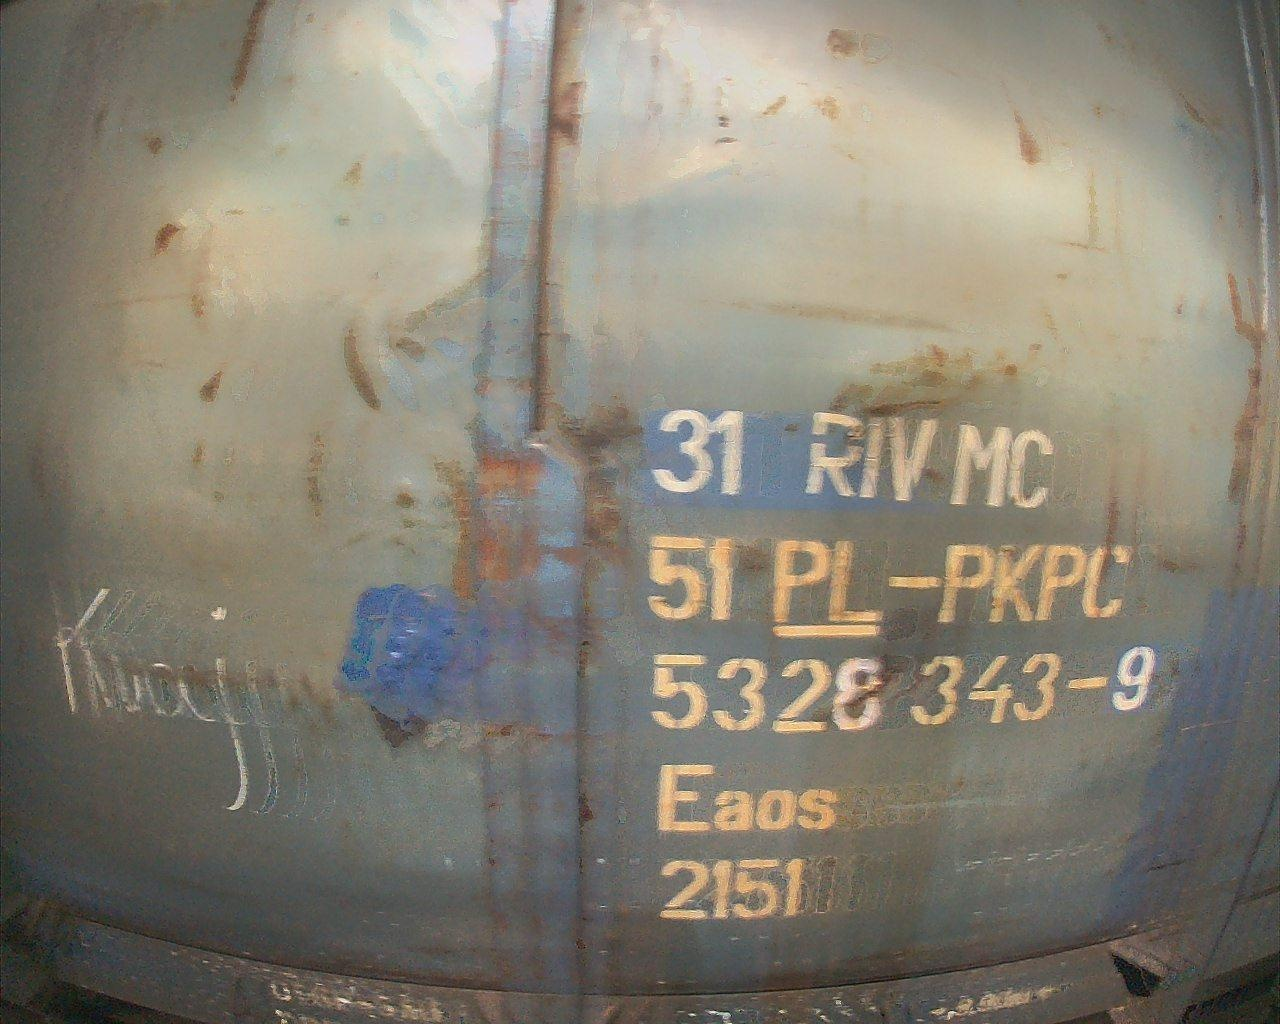UIC: (639, 403, 1160, 928)
